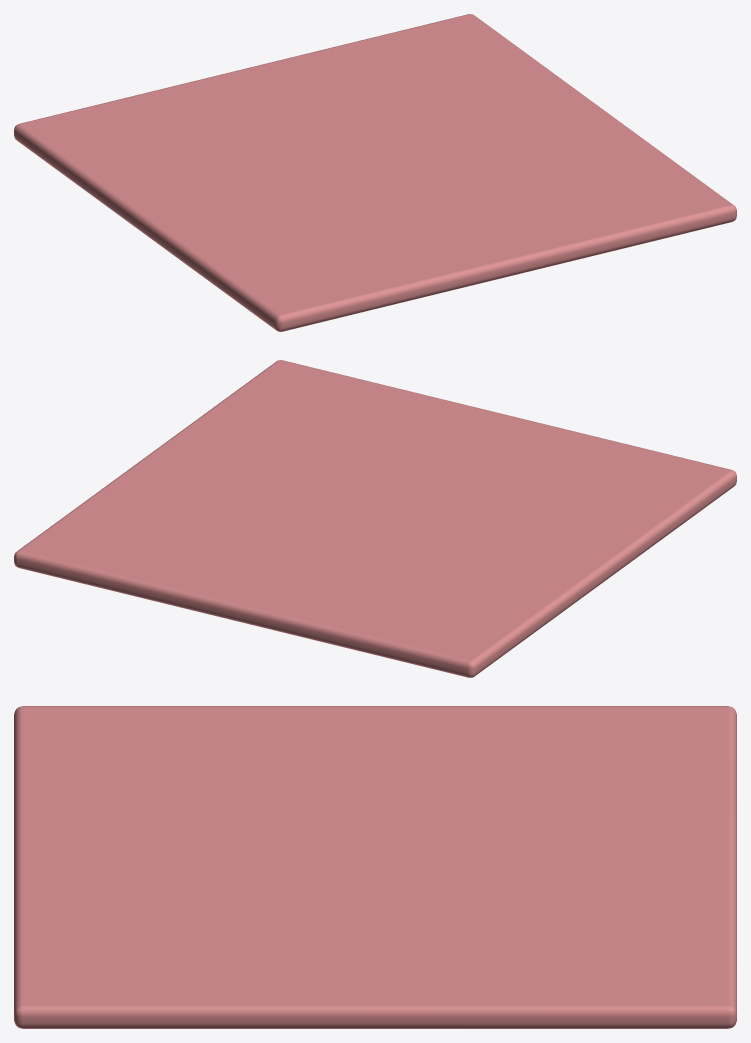
The model's file is marker-invalid.glb.
The picture shows the model from 3 angles, top to bottom: view 1: azimuth 30°, elevation 25°; view 2: azimuth 150°, elevation 25°; view 3: azimuth 270°, elevation 25°; orthographic projection. The views are drawn at different scales.
Parts seen in each view (by area): view 1: Placement footprint.001; view 2: Placement footprint.001; view 3: Placement footprint.001.
Part boxes in pixels (<box>): Placement footprint.001: <box>14,14,736,331</box>; Placement footprint.001: <box>14,360,736,677</box>; Placement footprint.001: <box>14,706,736,1028</box>.
Size of the model in its own units: 1 by 0.035 by 1.
